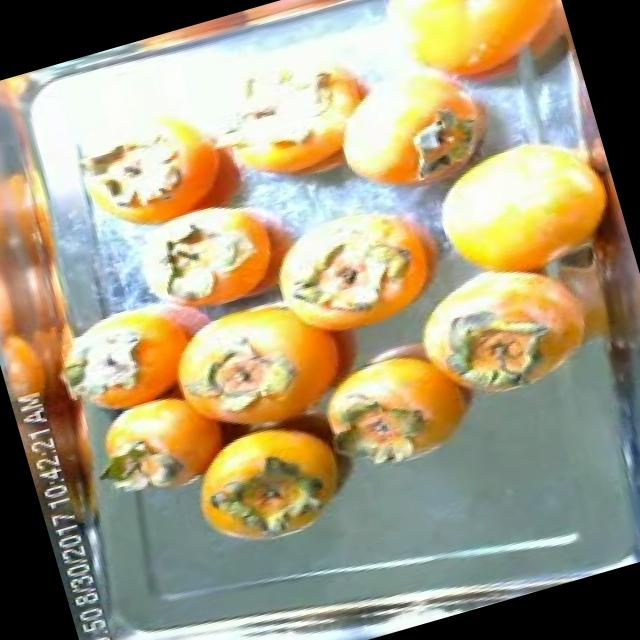Fruit: (400, 104, 635, 314), (168, 396, 378, 564)
